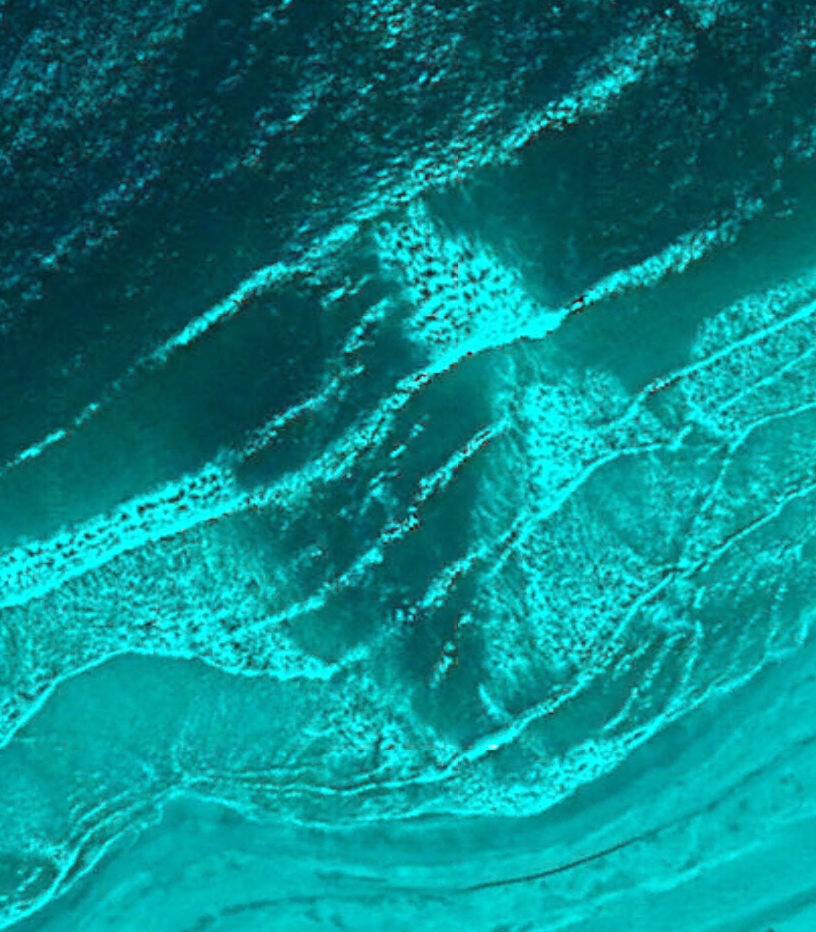rip_current: (137, 255, 561, 740)
